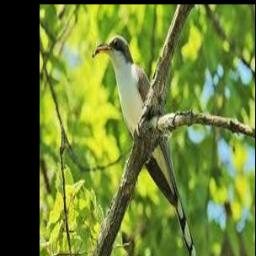Cuckoo: (95, 35, 198, 256)
